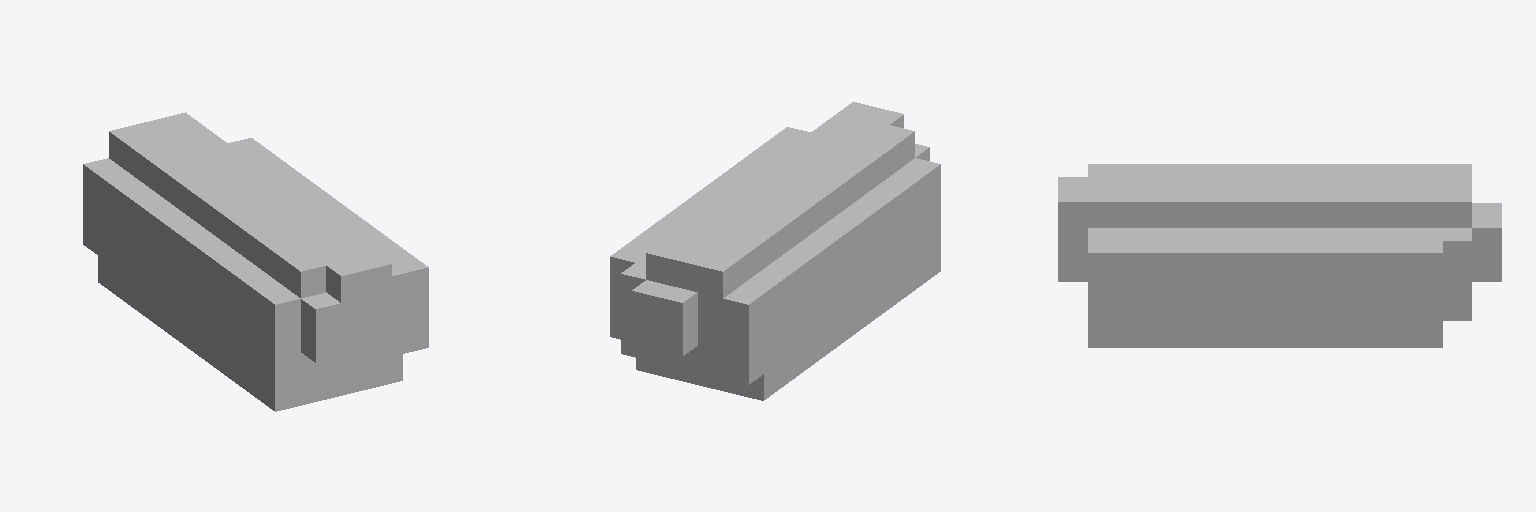
File: hotdog.obj
The picture shows the model from 3 angles: view 1: azimuth 30°, elevation 25°; view 2: azimuth 150°, elevation 25°; view 3: azimuth 270°, elevation 25°; orthographic projection.
Visible parts, largest first — view 1: object 1; view 2: object 1; view 3: object 1.
Part boxes in pixels (bbox=[...]): object 1: bbox=[83, 112, 428, 411]; object 1: bbox=[610, 102, 940, 400]; object 1: bbox=[1058, 164, 1501, 347].
Size of the model in its own units: 0.6 by 0.5 by 1.5.